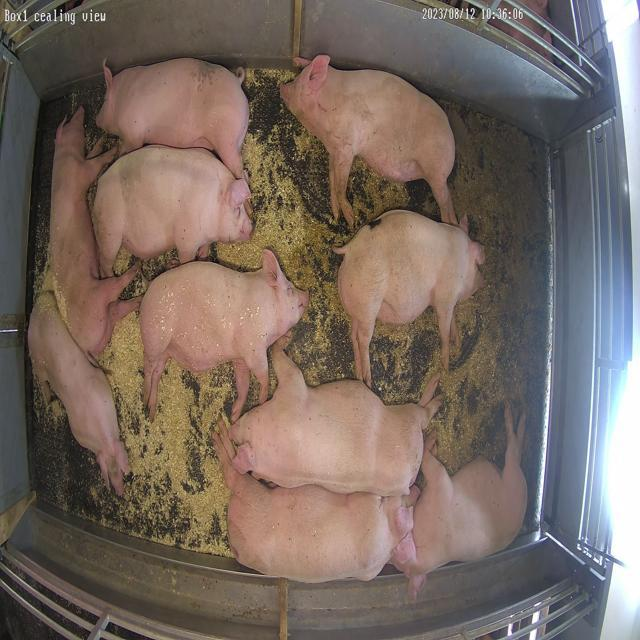Dirt: (436, 102, 551, 470), (281, 215, 355, 384), (348, 158, 440, 230), (371, 313, 441, 404)
Pig: (216, 406, 528, 600), (230, 340, 443, 497), (214, 426, 413, 584), (280, 54, 458, 224), (140, 249, 309, 422), (335, 210, 486, 386), (48, 106, 134, 356), (92, 145, 253, 277), (28, 292, 129, 496), (96, 58, 249, 178)
